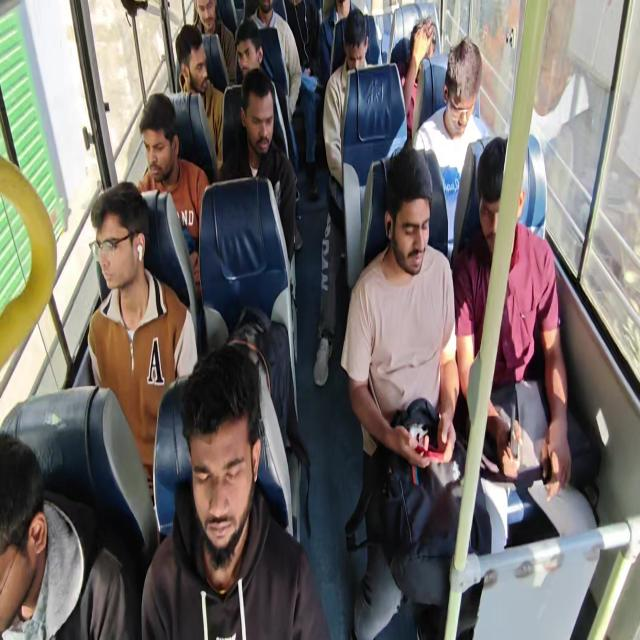person: (173, 368, 265, 555), (0, 446, 46, 624), (79, 200, 147, 285), (474, 153, 526, 259), (391, 172, 432, 282), (440, 56, 482, 145), (238, 78, 280, 154), (141, 99, 177, 185), (404, 18, 445, 78), (176, 34, 212, 96), (340, 21, 370, 77), (232, 34, 259, 72), (193, 0, 216, 28), (253, 0, 275, 22), (330, 0, 354, 12)
